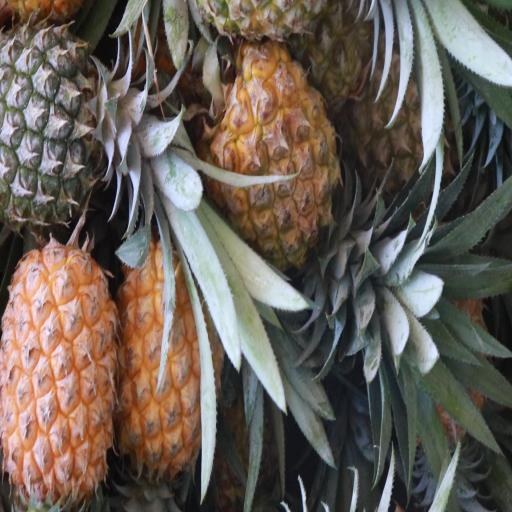------------------------------: (345, 25, 448, 190)
Pineapple - v8 v1: (0, 249, 115, 509), (213, 44, 338, 264), (117, 229, 222, 467)
